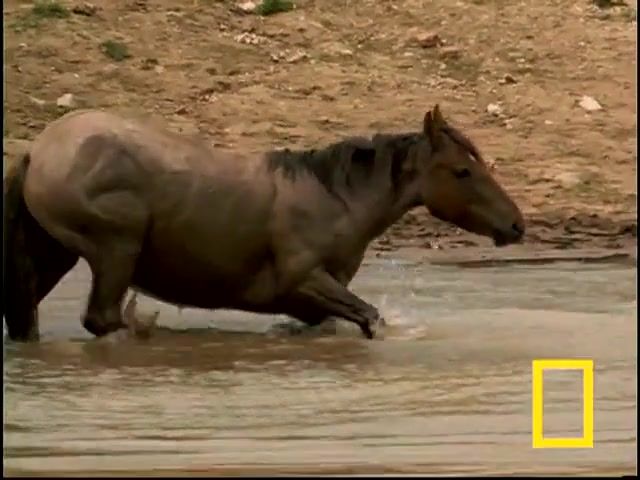horse: (2, 104, 526, 344)
